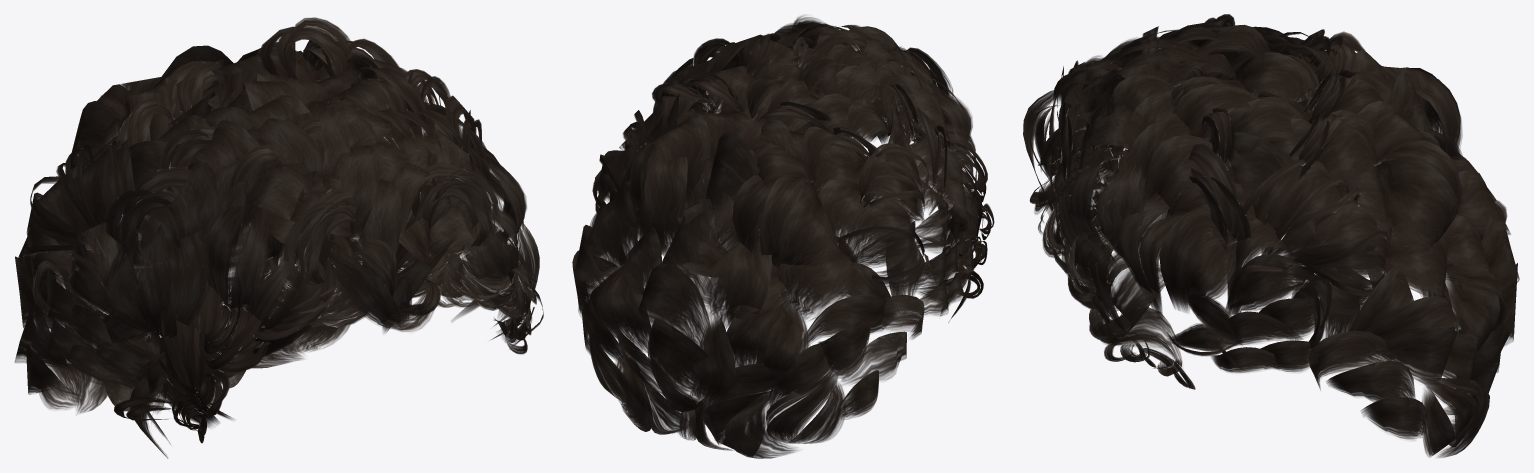
File: diamond_wavy_03 TexturedWaves.glb
The picture shows the model from 3 angles, left to right: view 1: azimuth 30°, elevation 25°; view 2: azimuth 150°, elevation 25°; view 3: azimuth 270°, elevation 25°; orthographic projection. The views are drawn at different scales.
Visible parts, largest first — view 1: s4studio_mesh_4.002_geom.002, s4studio_mesh_4.002_geom.007, s4studio_mesh_4.002_geom.003; view 2: s4studio_mesh_4.002_geom.002, s4studio_mesh_4.002_geom.007, s4studio_mesh_4.002_geom.003; view 3: s4studio_mesh_4.002_geom.002, s4studio_mesh_4.002_geom.007, s4studio_mesh_4.002_geom.008, s4studio_mesh_4.002_geom.003.
Part boxes in pixels (x1,y1,x2,y2): s4studio_mesh_4.002_geom.002: [14, 17, 539, 420]; s4studio_mesh_4.002_geom.007: [130, 219, 536, 458]; s4studio_mesh_4.002_geom.003: [161, 45, 233, 113]; s4studio_mesh_4.002_geom.002: [572, 15, 983, 458]; s4studio_mesh_4.002_geom.007: [758, 99, 994, 322]; s4studio_mesh_4.002_geom.003: [706, 131, 759, 209]; s4studio_mesh_4.002_geom.002: [1023, 14, 1519, 457]; s4studio_mesh_4.002_geom.007: [1034, 115, 1167, 362]; s4studio_mesh_4.002_geom.008: [1097, 307, 1182, 365]; s4studio_mesh_4.002_geom.003: [1388, 71, 1436, 157].
Size of the model in its own units: 0.2137 by 0.1946 by 0.2295.
1 material, 1 textured.
